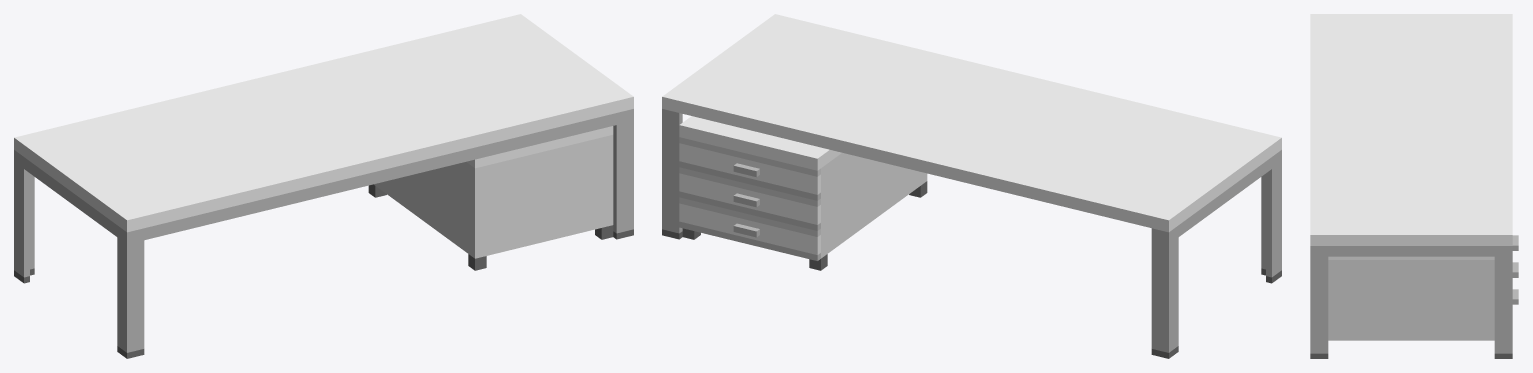
File: Desk2-2.fbx
3 views of the same model, side by side, from view 1: azimuth 30°, elevation 25°; view 2: azimuth 150°, elevation 25°; view 3: azimuth 270°, elevation 25° (orthographic). The views are drawn at different scales.
Parts seen in each view (by area): view 1: Desk2-2.001; view 2: Desk2-2.001; view 3: Desk2-2.001.
Part boxes in pixels (bbox=[...]): Desk2-2.001: bbox=[14, 14, 633, 358]; Desk2-2.001: bbox=[662, 14, 1281, 358]; Desk2-2.001: bbox=[1310, 14, 1518, 358].
Size of the model in its own units: 8.8 by 2.3 by 3.5.
